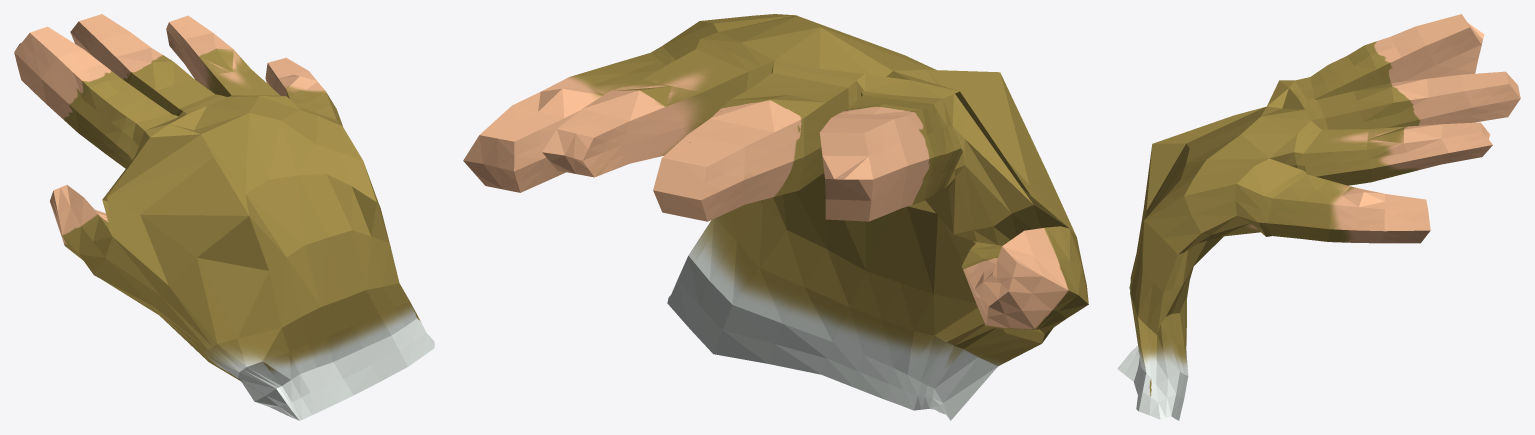
File: flexion0035.obj
3 renders of one model, left to right at view 1: azimuth 30°, elevation 25°; view 2: azimuth 150°, elevation 25°; view 3: azimuth 270°, elevation 25°, orthographic. The views are drawn at different scales.
Parts seen in each view (by area): view 1: Hand; view 2: Hand; view 3: Hand.
Part boxes in pixels (bbox=[...]): Hand: bbox=[14, 14, 434, 420]; Hand: bbox=[463, 14, 1088, 420]; Hand: bbox=[1117, 14, 1520, 420].
Bounding box in the file's own units: 3.27 × 3.09 × 3.64.
